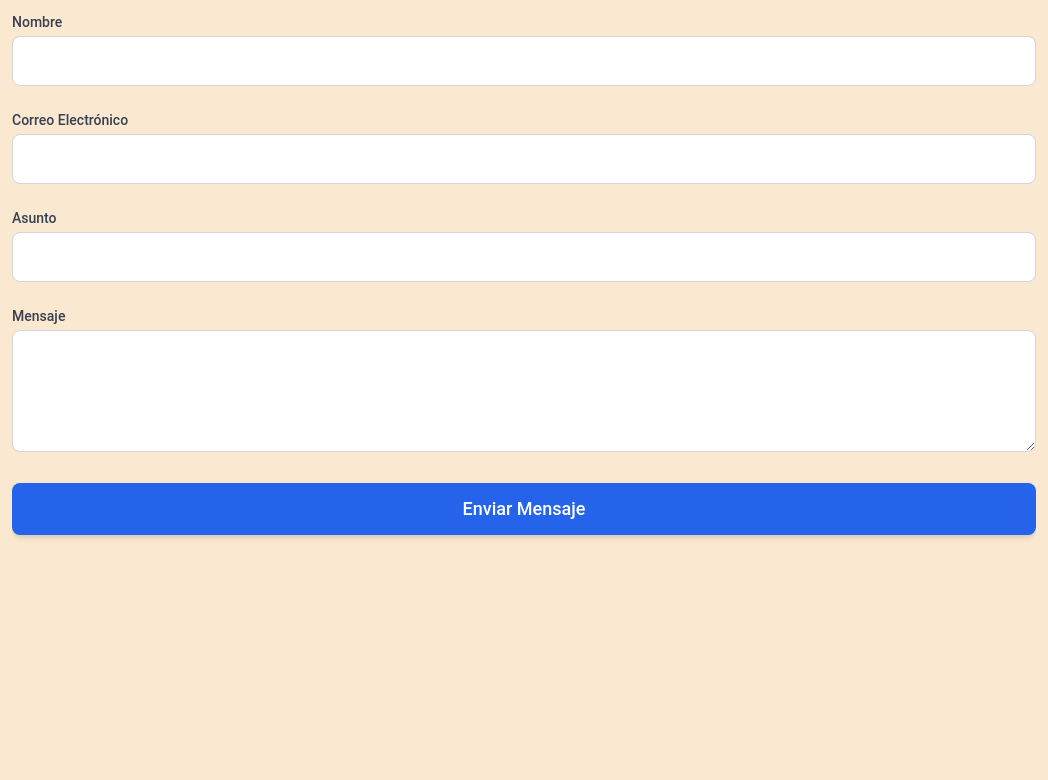
it: ContactForm › clears individual field error when typing
This screenshot has width=1048, height=780.
Click the button "Enviar Mensaje" at (524, 509), box [12, 483, 1036, 535]
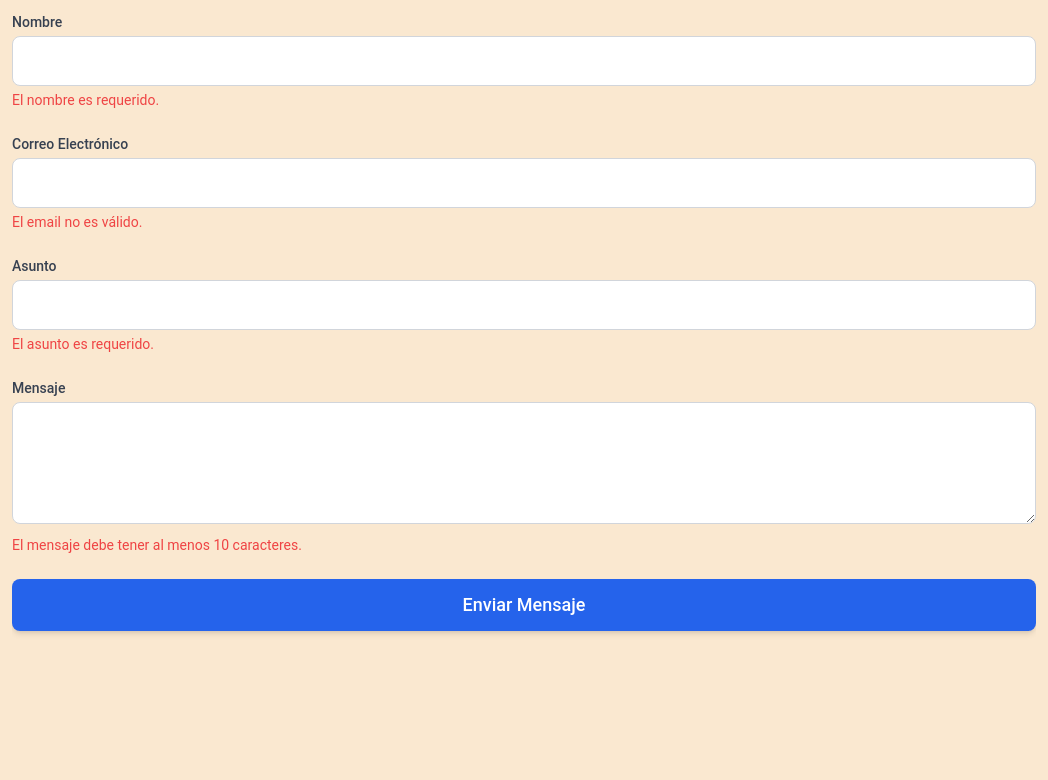
Check: the text "El nombre es requerido." is shown, box [12, 92, 159, 108]
Type "Juan" into the field labelled "Nombre" at (524, 61), box [12, 36, 1036, 86]
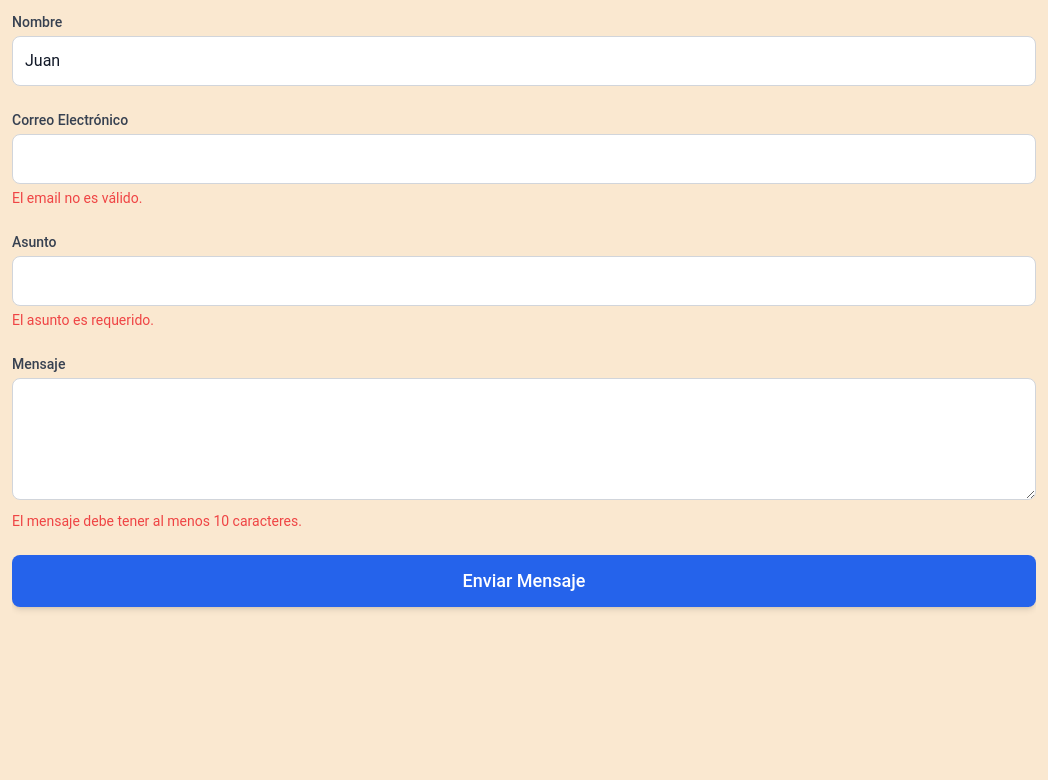
Check: the text "El nombre es requerido" is gone
